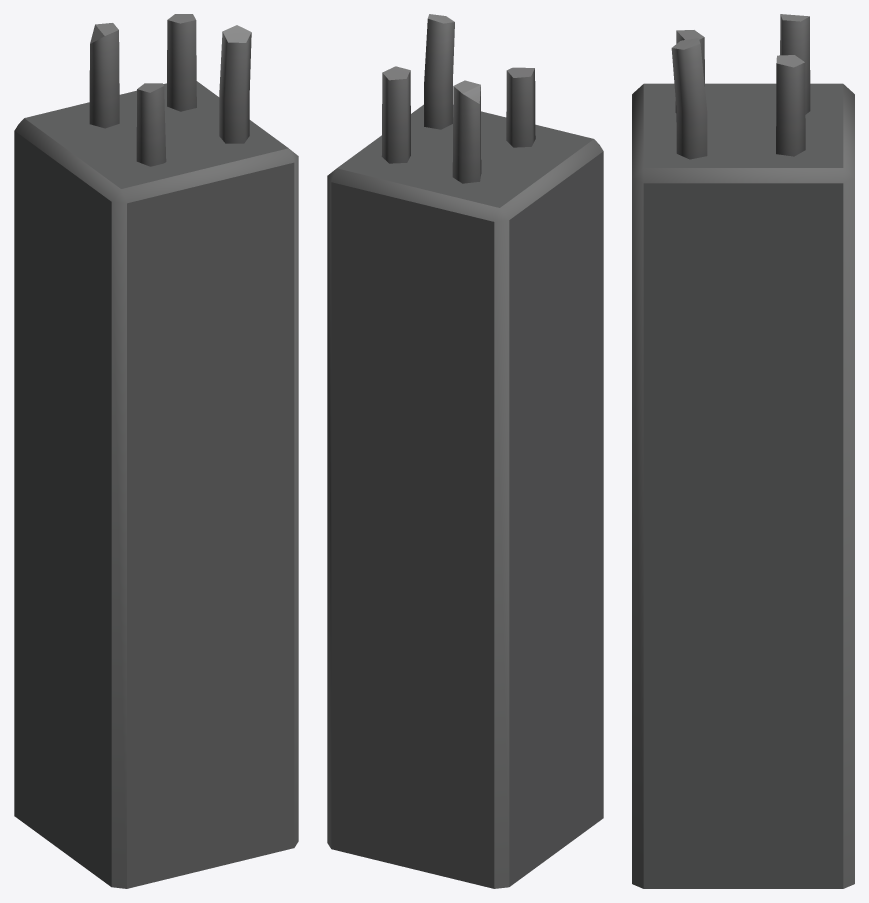
Rendered from Pilar_B_2.obj.
3 views of the same model, side by side, from view 1: azimuth 30°, elevation 25°; view 2: azimuth 150°, elevation 25°; view 3: azimuth 270°, elevation 25° (orthographic). The views are drawn at different scales.
Parts seen in each view (by area): view 1: Pilar_B_2; view 2: Pilar_B_2; view 3: Pilar_B_2.
Part boxes in pixels (x1,y1,x2,y2): Pilar_B_2: (14, 14, 298, 888); Pilar_B_2: (327, 14, 603, 888); Pilar_B_2: (632, 14, 854, 888).
Bounding box in the file's own units: 0.5496 × 2.26 × 0.551.
